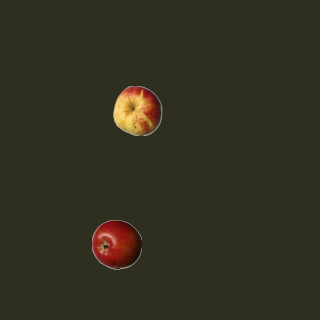Apple Braeburn: (91, 219, 141, 269)
Apple Red Yellow 1: (112, 85, 162, 135)
